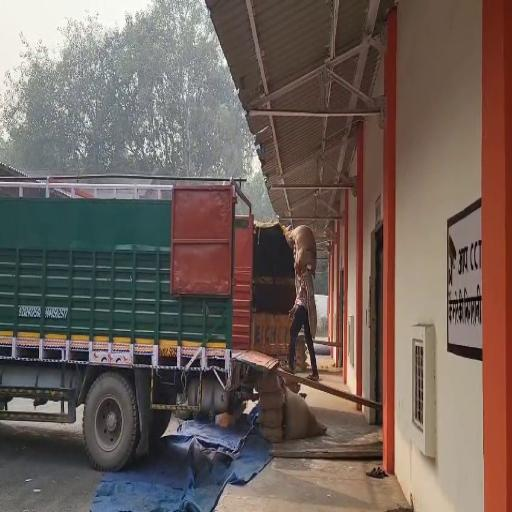bag: (286, 223, 318, 279)
